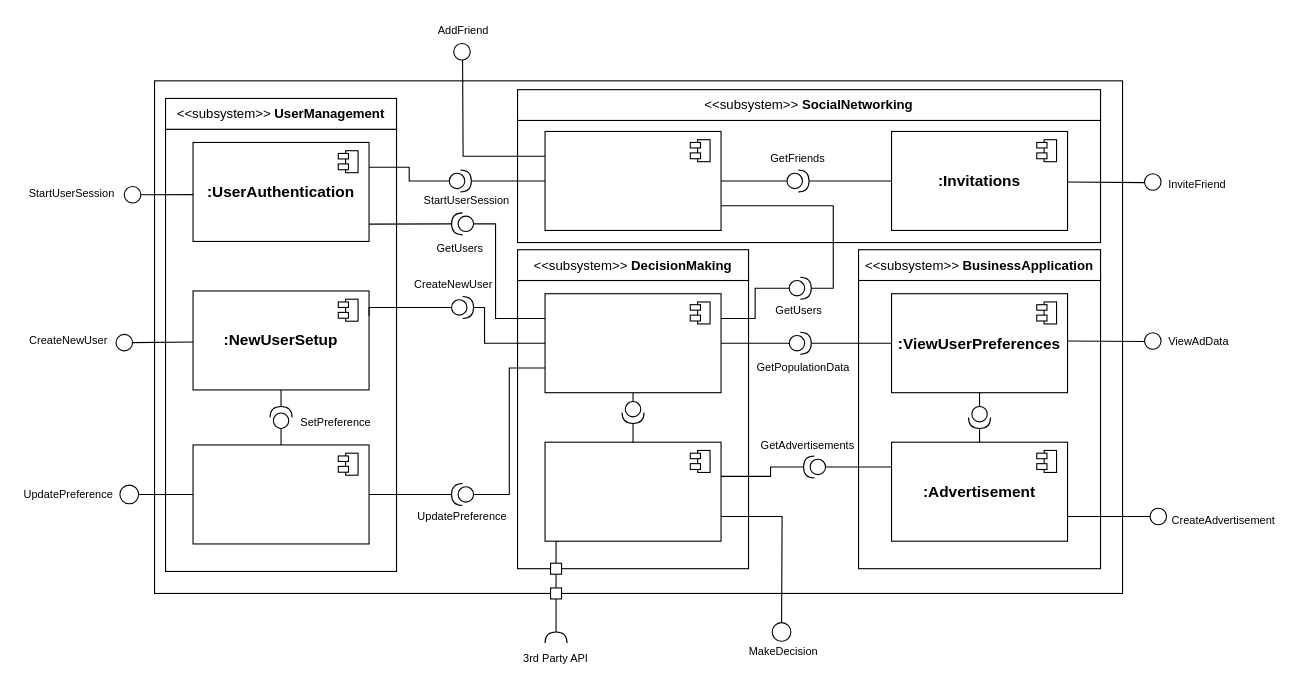
Some shapes in this 1299 by 689 pixel diagram are drawn without their labels. Here are the shapes that lost their labels. From the top down, the box of each, then its label:
(544, 130, 721, 230): :Friends
(544, 293, 721, 393): :UserDatabase <<Database>>
(192, 444, 369, 544): :SetUserPreferences
(544, 441, 721, 541): :MLModel <<infrastructure>>
